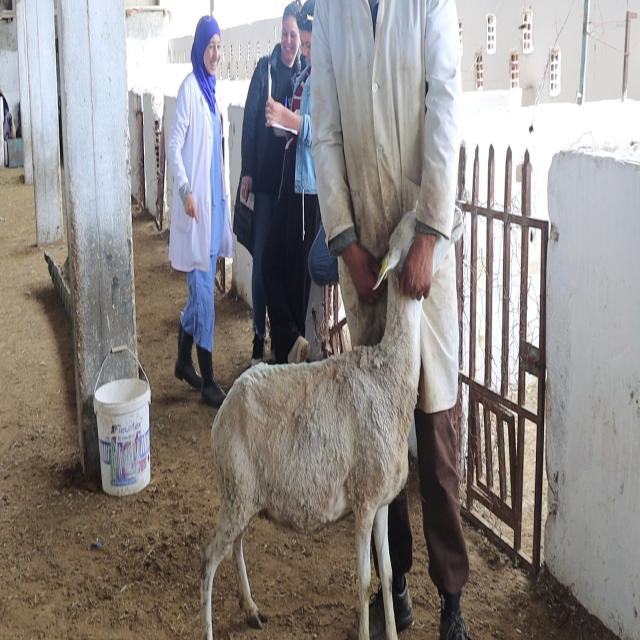Score_1: (201, 201, 422, 639)
